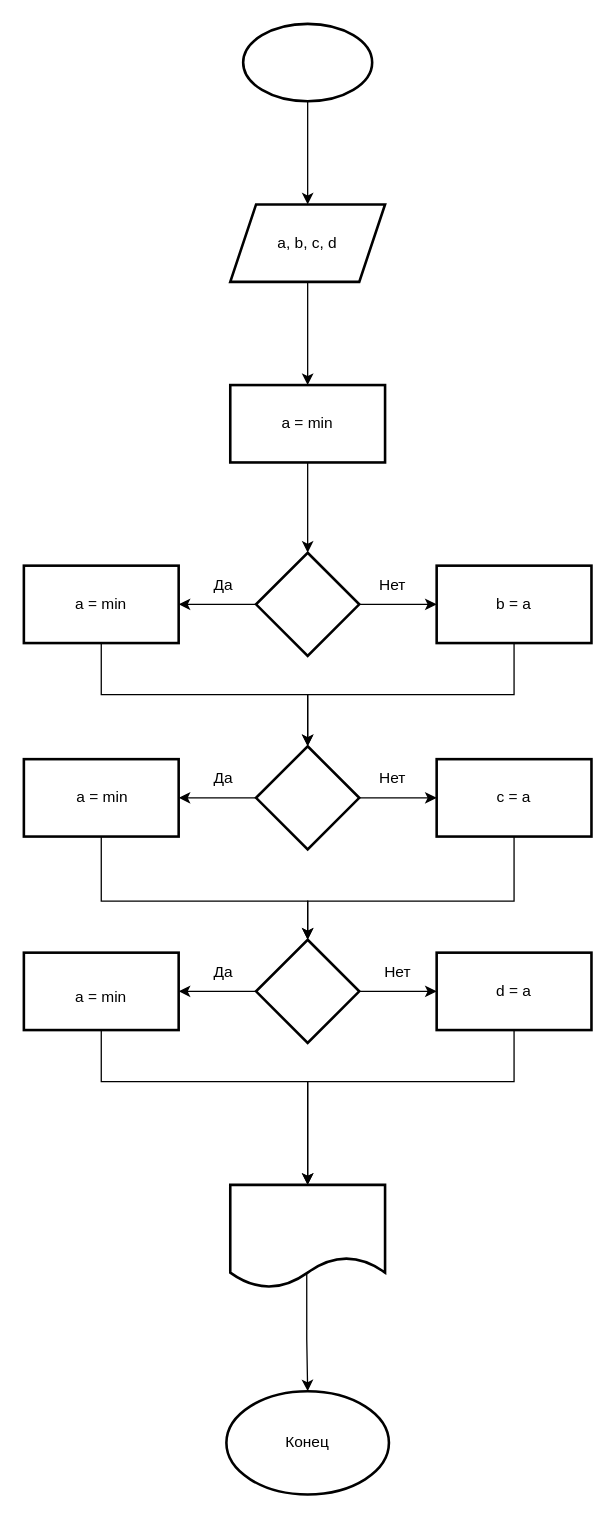
Image size: 614x1517. Some labels were removed from this diagram. Here are the shapes that lost their labels. From the top down, the box of each, then its label:
(241, 22, 373, 102): Начало
(254, 551, 360, 657): b > min
(254, 744, 360, 850): c > min
(254, 938, 360, 1044): d > min
(228, 1183, 386, 1289): min
